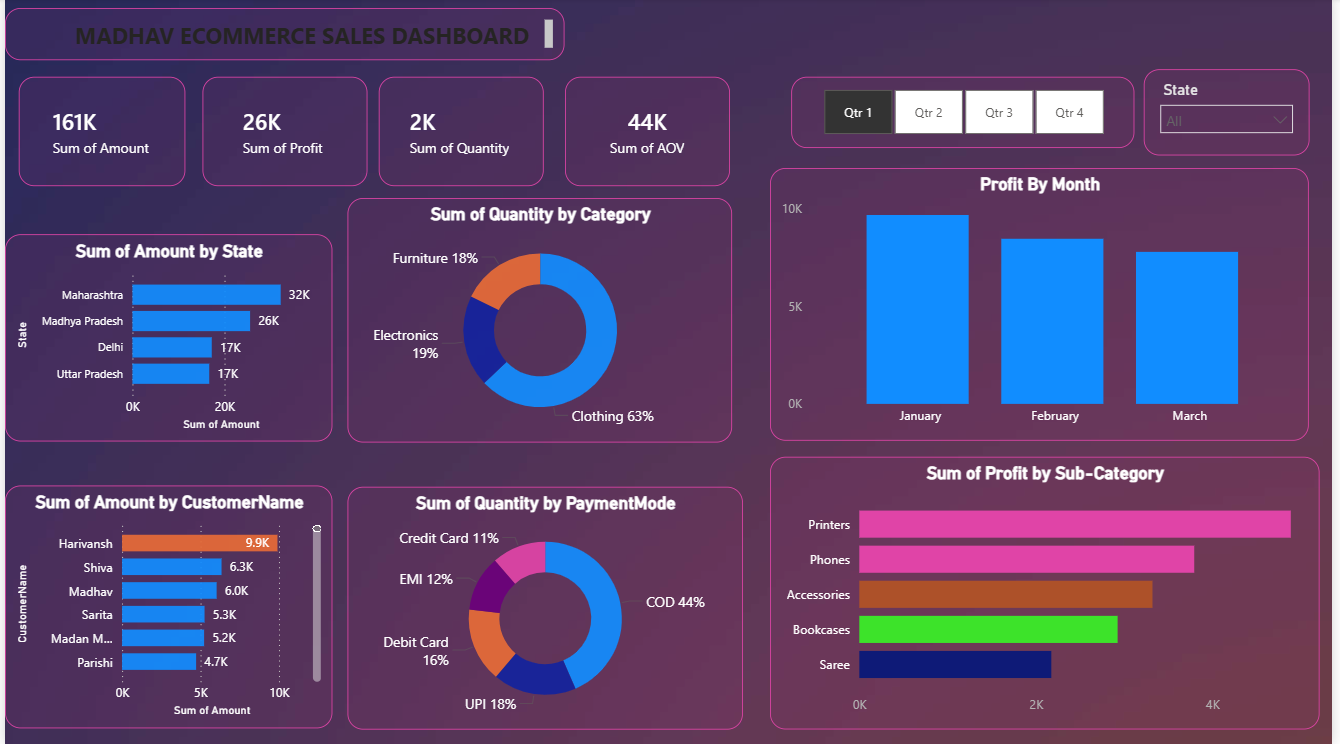

This screenshot's page, from the dashboard's own definition file:
{"tool":"powerbi","page":{"name":"Page 1","canvas":[1280,720],"ordinal":0},"visuals":[{"type":"textbox","box":[0,10,540,50],"z":0},{"type":"columnChart","title":"Profit By Month","fields":{"Category":["Orders.Order Date.Variation.Date Hierarchy.Month"],"Y":["Sum(Details.Profit)"]},"box":[728.6,164.3,530,264.3],"z":1000},{"type":"barChart","fields":{"Category":["Details.Sub-Category"],"Y":["Sum(Details.Profit)"]},"box":[738.6,442.9,530,262.9],"z":2000},{"type":"donutChart","fields":{"Category":["Details.Category"],"Y":["Sum(Details.Quantity)"]},"box":[330,192.9,371.4,235.7],"z":3000},{"type":"donutChart","fields":{"Y":["Sum(Details.Quantity)"],"Category":["Details.PaymentMode"]},"box":[330,471.4,381.4,234.3],"z":4000},{"type":"cardVisual","fields":{"Data":["Sum(Details.Amount)"]},"box":[0,75.7,160,105.7],"z":5000},{"type":"cardVisual","fields":{"Data":["Sum(Details.Profit)"]},"box":[170,75.7,160,105.7],"z":6000},{"type":"cardVisual","fields":{"Data":["Sum(Details.AOV)"]},"box":[515.7,75.7,160,105.7],"z":7000},{"type":"cardVisual","fields":{"Data":["Sum(Details.Quantity)"]},"box":[342.9,75.7,160,105.7],"z":8000},{"type":"clusteredBarChart","fields":{"Category":["Orders.State"],"Y":["Sum(Details.Amount)"]},"box":[0,228.6,315.7,200],"z":9000},{"type":"barChart","fields":{"Category":["Orders.CustomerName"],"Y":["Sum(Details.Amount)"]},"box":[0,471,316,234],"z":10000},{"type":"slicer","fields":{"Values":["Orders.Order Date.Variation.Date Hierarchy.Quarter"]},"box":[758.6,75.7,331.4,68.6],"z":11000},{"type":"slicer","fields":{"Values":["Orders.State"]},"box":[1098.6,68.6,160,82.9],"z":11001}]}

Visuals, with their boxes in screenshot pixels (x1, y1, x2, y2), scaled from the page's 1280x720 canvas onto the 1340x744 screenshot:
textbox: select_region(0, 10, 565, 62)
"Profit By Month" columnChart: select_region(763, 170, 1318, 443)
barChart - Details.Sub-Category x Sum(Details.Profit): select_region(773, 458, 1328, 729)
donutChart - Details.Category x Sum(Details.Quantity): select_region(345, 199, 734, 443)
donutChart - Sum(Details.Quantity) x Details.PaymentMode: select_region(345, 487, 745, 729)
cardVisual - Sum(Details.Amount): select_region(0, 78, 168, 187)
cardVisual - Sum(Details.Profit): select_region(178, 78, 345, 187)
cardVisual - Sum(Details.AOV): select_region(540, 78, 707, 187)
cardVisual - Sum(Details.Quantity): select_region(359, 78, 526, 187)
clusteredBarChart - Orders.State x Sum(Details.Amount): select_region(0, 236, 330, 443)
barChart - Orders.CustomerName x Sum(Details.Amount): select_region(0, 487, 331, 729)
slicer - Orders.Order Date.Variation.Date Hierarchy.Quarter: select_region(794, 78, 1141, 149)
slicer - Orders.State: select_region(1150, 71, 1318, 157)
